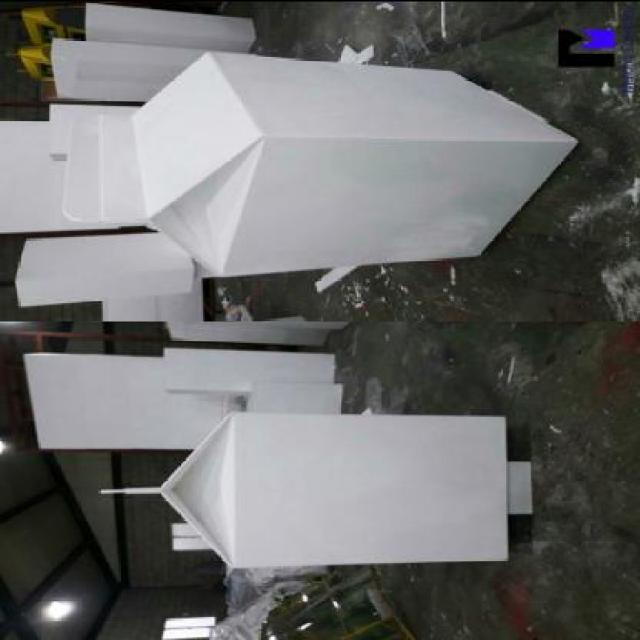non_white_jug: (53, 38, 584, 274), (88, 404, 528, 576)
